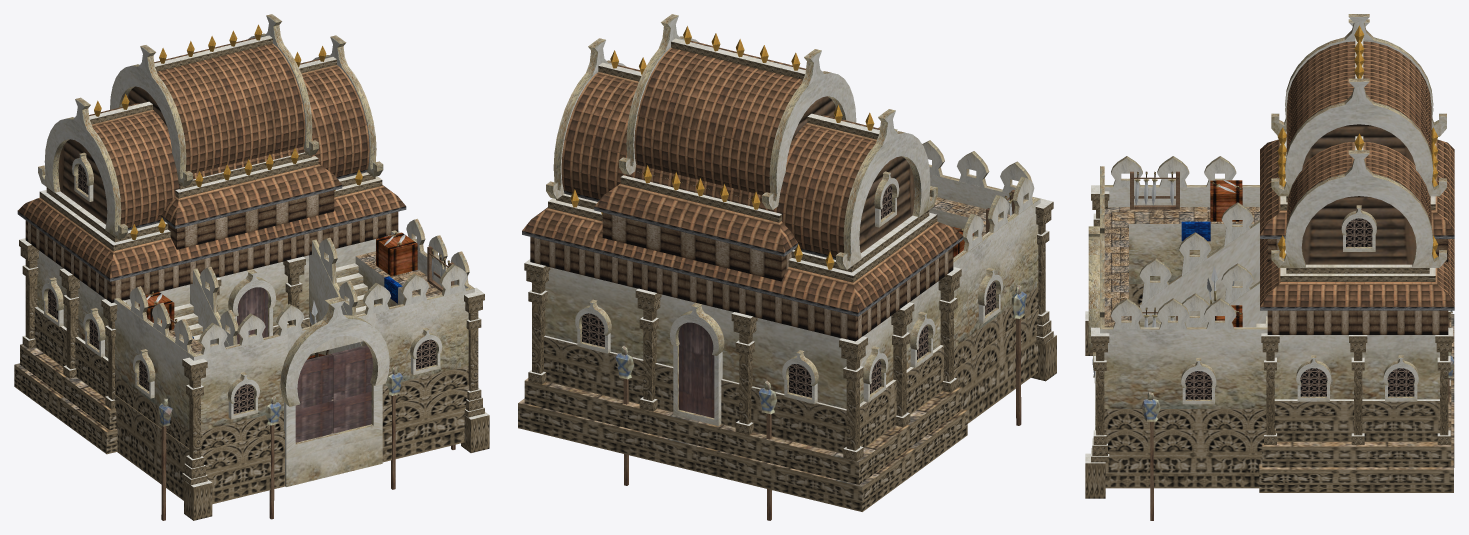
The model's file is barracks.dae.
3 views of the same model, side by side, from view 1: azimuth 30°, elevation 25°; view 2: azimuth 150°, elevation 25°; view 3: azimuth 270°, elevation 25° (orthographic). The views are drawn at different scales.
Visible parts, largest first — view 1: barracks; view 2: barracks; view 3: barracks.
Boxes of the visible parts, bbox=[...] form: barracks: bbox=[14, 14, 489, 520]; barracks: bbox=[518, 14, 1056, 520]; barracks: bbox=[1085, 14, 1454, 520].
Bounding box in the file's own units: 19.2 × 19.24 × 22.91.
